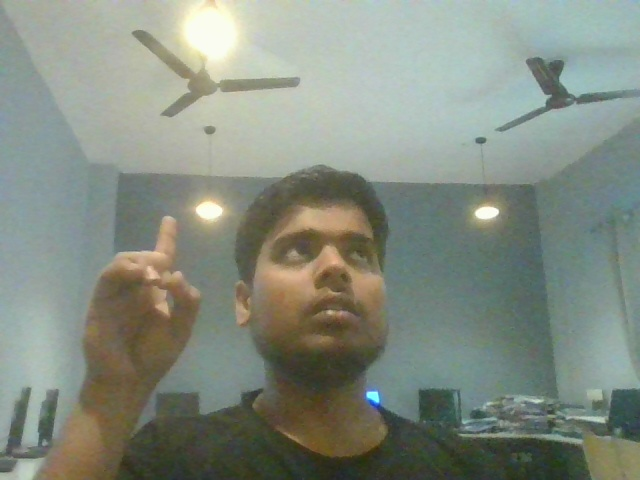D: (70, 193, 214, 402)
